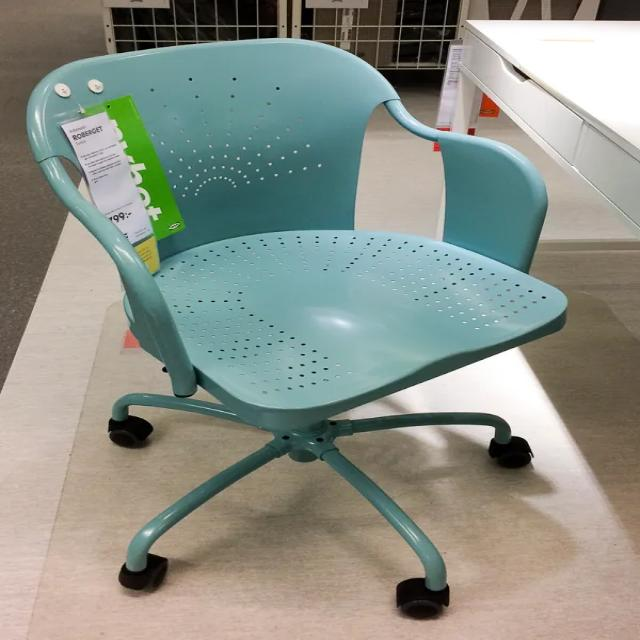Chair: (13, 13, 597, 639)
